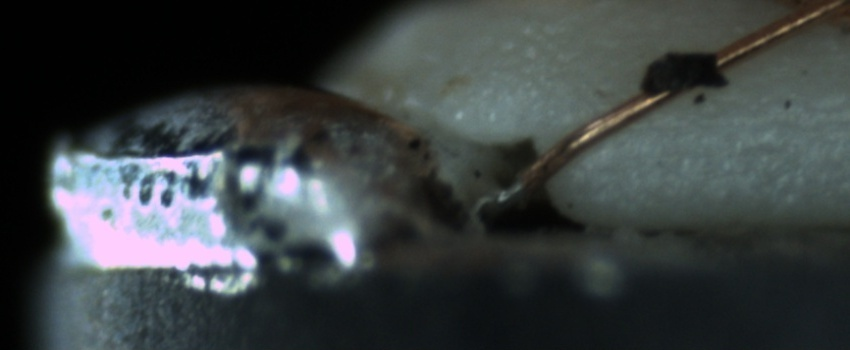CL: (772, 1, 847, 31)
DL: (675, 86, 850, 148)
